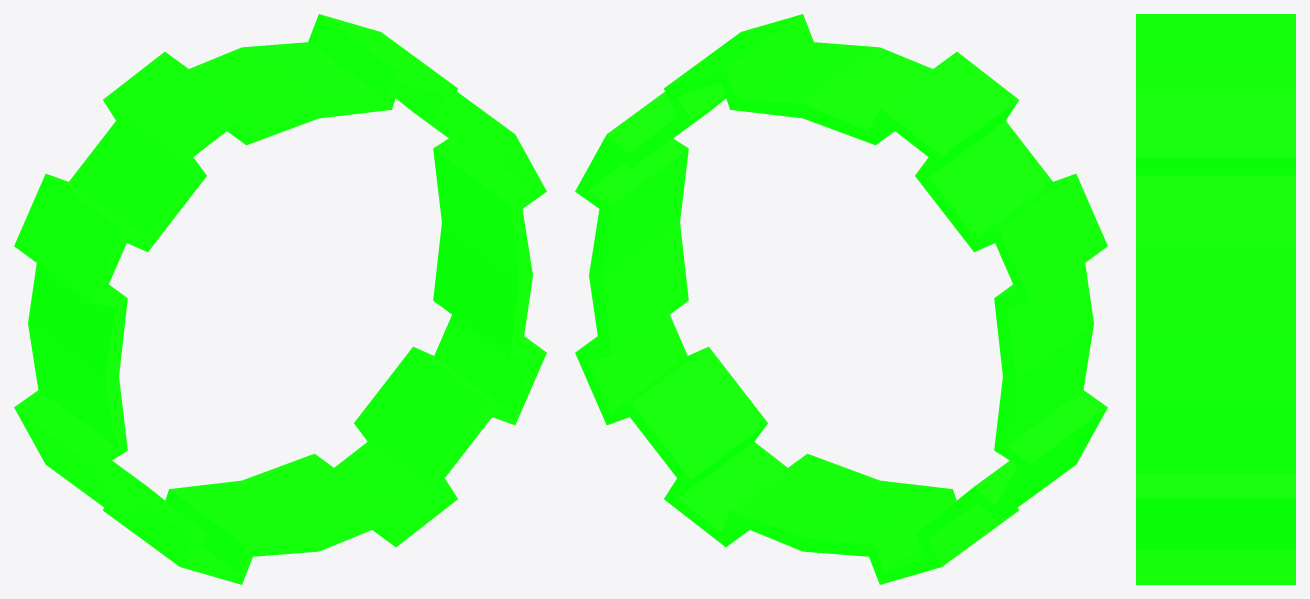
Rendered from socket_marker_S.FBX.
3 renders of one model, left to right at view 1: azimuth 30°, elevation 25°; view 2: azimuth 150°, elevation 25°; view 3: azimuth 270°, elevation 25°, orthographic. The views are drawn at different scales.
Parts seen in each view (by area): view 1: Маркер_места_Маленький; view 2: Маркер_места_Маленький; view 3: Маркер_места_Маленький.
Part boxes in pixels (<box>): Маркер_места_Маленький: <box>14,14,546,584</box>; Маркер_места_Маленький: <box>575,14,1107,584</box>; Маркер_места_Маленький: <box>1136,14,1295,584</box>.
Bounding box in the file's own units: 25.56 × 7.5 × 25.56.
